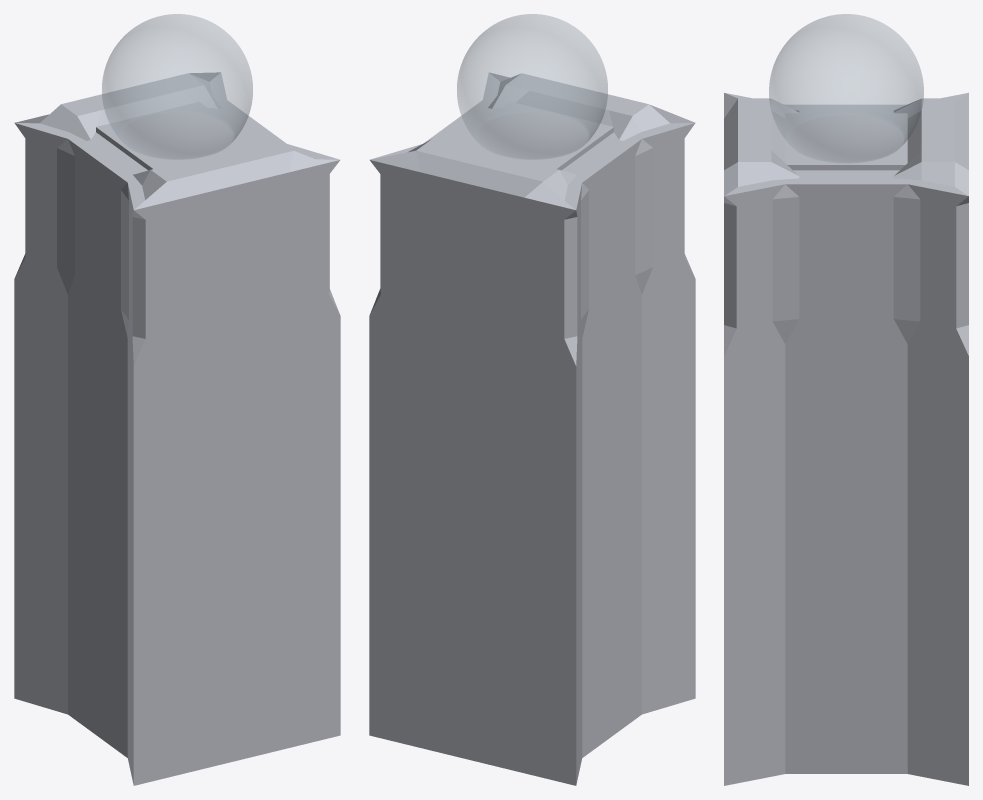
Rendered from FoodGenerator.fbx.
The picture shows the model from 3 angles, left to right: view 1: azimuth 30°, elevation 25°; view 2: azimuth 150°, elevation 25°; view 3: azimuth 270°, elevation 25°; orthographic projection. The views are drawn at different scales.
Parts seen in each view (by area): view 1: Cube, Cube.001; view 2: Cube, Cube.001; view 3: Cube, Cube.001.
Boxes of the visible parts, x1,y1,x2,y2 form: Cube: [14, 72, 340, 785]; Cube.001: [102, 14, 252, 159]; Cube: [369, 72, 695, 785]; Cube.001: [457, 14, 607, 159]; Cube: [724, 92, 968, 785]; Cube.001: [769, 14, 923, 163].
Bounding box in the file's own units: 3.12 × 10.03 × 3.12.
